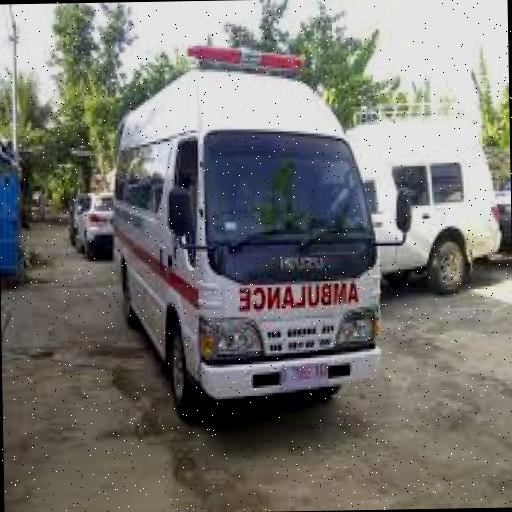Police car: (113, 40, 380, 411)
